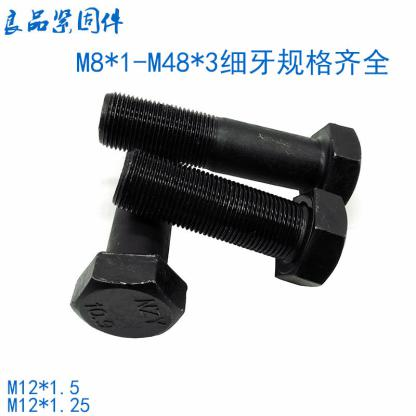FOD: (107, 146, 356, 290), (96, 90, 363, 211), (68, 112, 192, 341)
